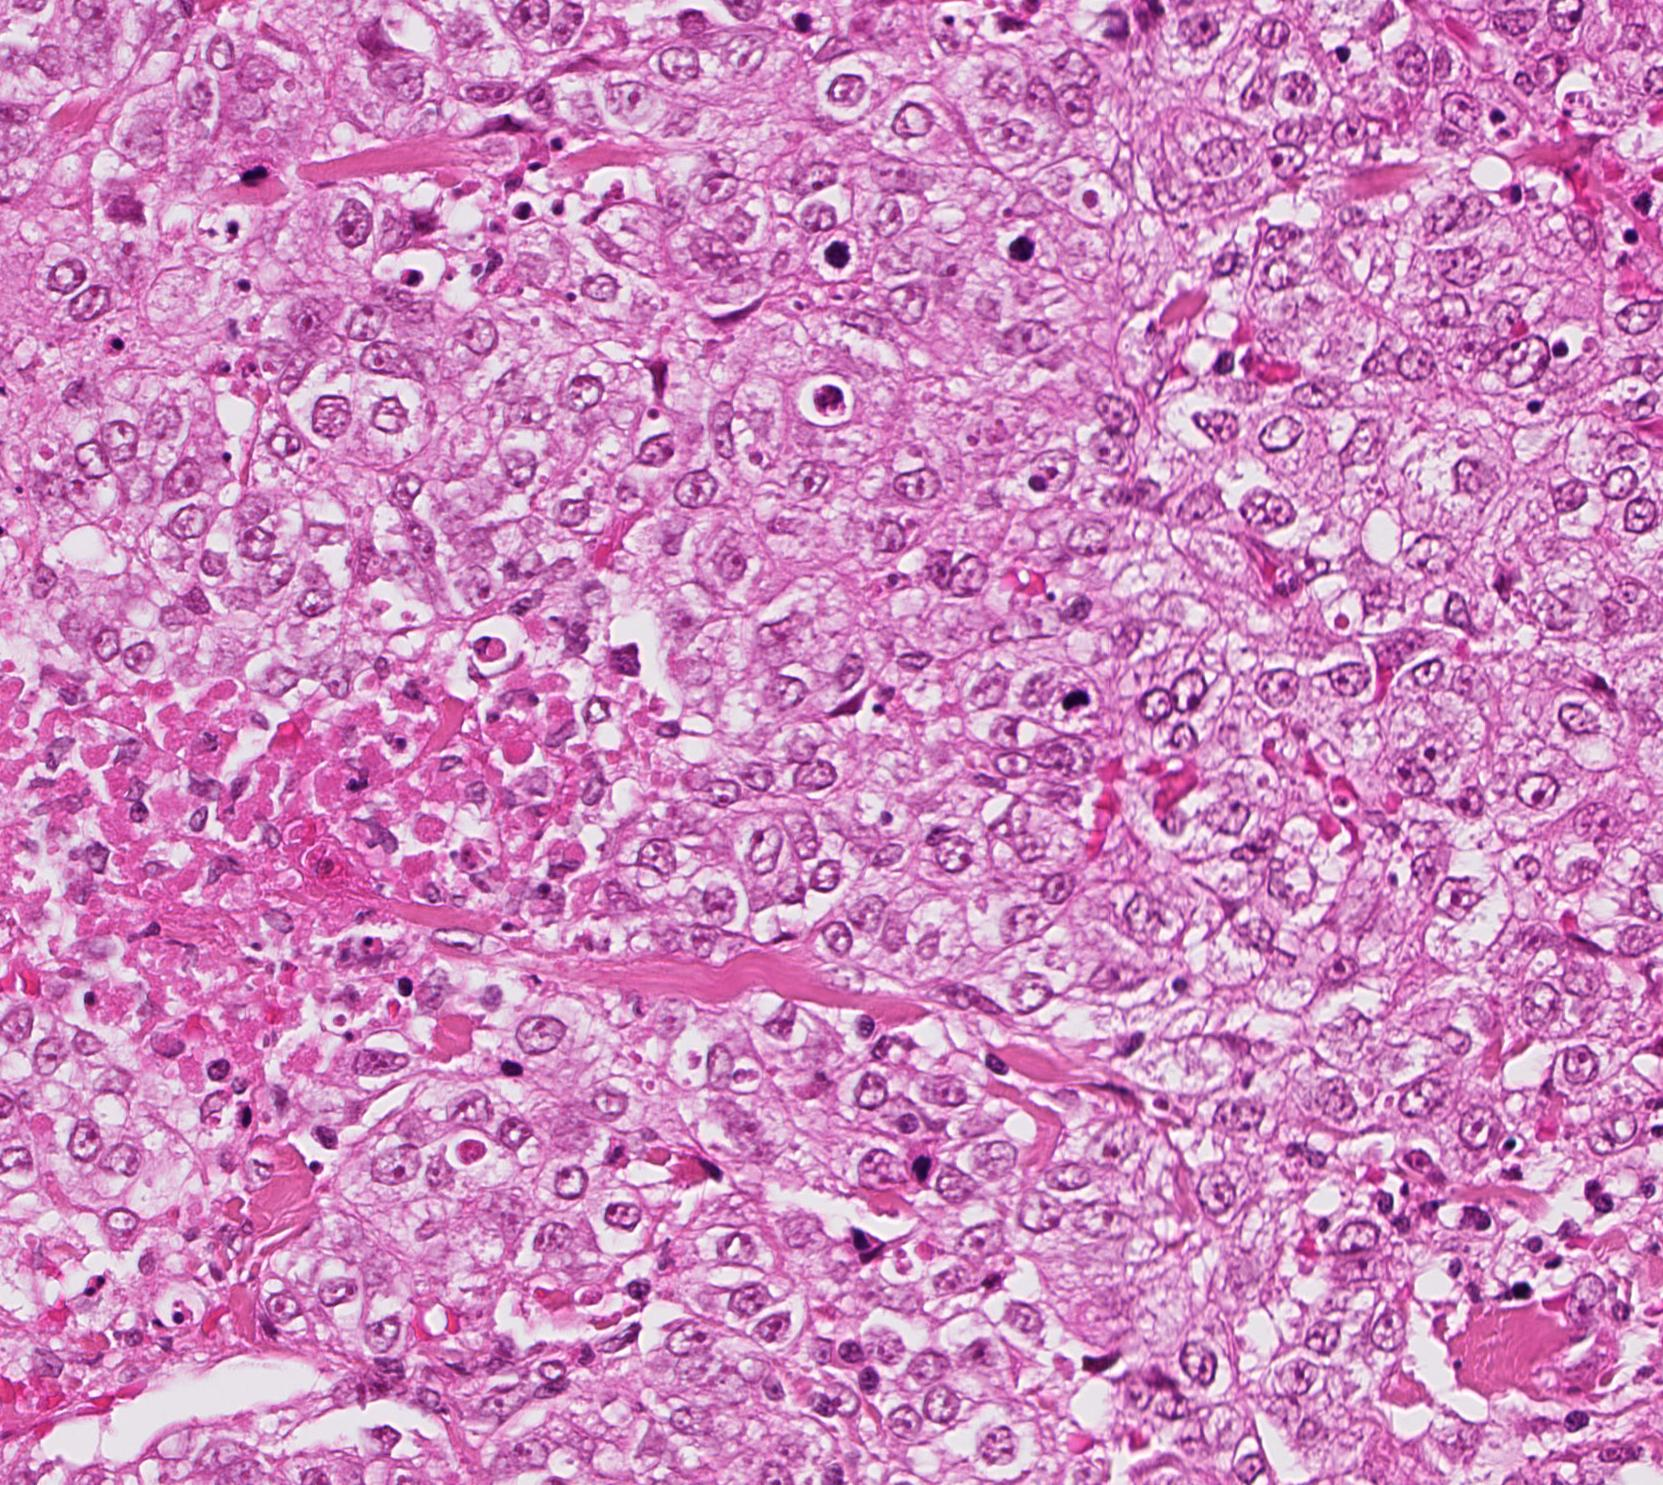mitosis: (804, 222, 864, 282)
